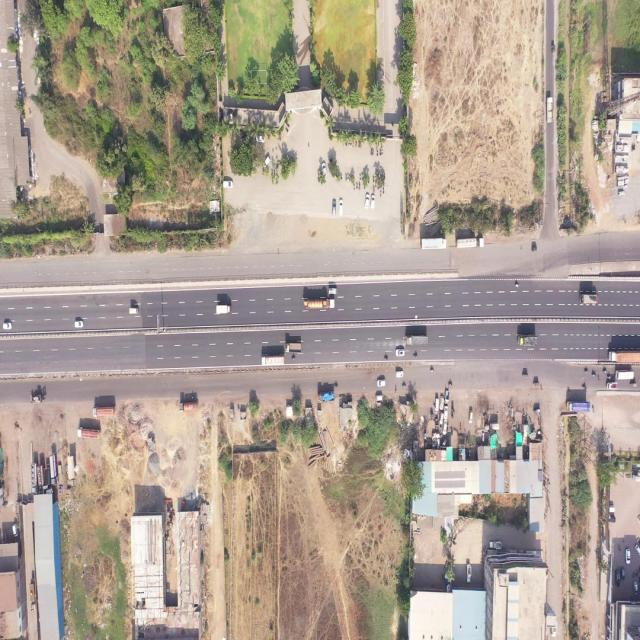3W: (532, 405, 542, 415), (551, 42, 555, 54), (629, 381, 637, 387), (532, 381, 539, 387), (531, 246, 537, 252), (522, 373, 529, 378)
Bus: (615, 368, 634, 380)
Cars: (624, 548, 632, 565), (255, 132, 266, 144), (632, 580, 639, 596), (338, 198, 344, 216), (74, 318, 83, 330), (223, 179, 234, 188), (615, 570, 621, 586), (263, 155, 270, 168), (370, 194, 376, 209), (377, 378, 386, 388), (396, 348, 405, 357), (2, 322, 12, 330), (332, 198, 336, 217), (468, 409, 473, 424), (322, 162, 327, 177), (365, 192, 369, 208), (444, 406, 448, 422), (440, 394, 444, 410), (395, 370, 404, 377), (434, 398, 438, 412), (376, 394, 383, 402), (440, 412, 444, 425)
LCV: (488, 539, 502, 550), (465, 563, 472, 585), (128, 306, 139, 316), (607, 382, 618, 391), (328, 288, 338, 295)
M2W: (566, 388, 572, 395), (582, 384, 588, 390), (606, 374, 612, 380), (412, 353, 418, 359), (584, 368, 589, 375), (372, 173, 375, 183), (602, 369, 608, 374), (430, 367, 435, 373), (447, 381, 453, 386), (515, 282, 520, 288), (354, 140, 358, 147), (359, 172, 362, 181), (273, 169, 276, 178), (348, 172, 351, 181), (358, 182, 361, 190), (334, 383, 338, 389), (292, 356, 296, 362), (353, 183, 356, 190), (356, 180, 358, 190), (380, 189, 382, 199), (372, 146, 374, 156), (592, 373, 596, 378), (384, 356, 388, 361), (402, 384, 406, 389), (381, 148, 383, 157), (345, 172, 347, 180), (340, 172, 342, 180), (376, 149, 378, 157), (372, 184, 374, 192), (382, 186, 384, 194), (358, 140, 360, 148), (350, 141, 352, 147)
MAV: (607, 348, 640, 364), (303, 298, 335, 311), (456, 237, 485, 249)
Truck: (76, 424, 102, 440), (420, 238, 447, 250), (579, 290, 598, 307), (92, 405, 116, 418), (566, 400, 591, 412), (405, 334, 428, 346), (517, 335, 538, 348), (317, 390, 336, 404), (261, 354, 285, 365), (179, 401, 198, 413), (215, 302, 232, 315), (546, 96, 554, 122), (285, 342, 302, 352)
